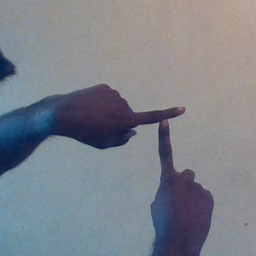T: (114, 91, 210, 197)
